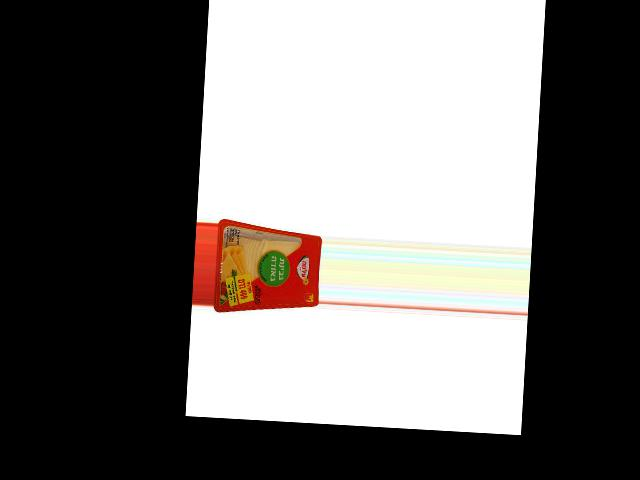cheese: (212, 219, 322, 318)
